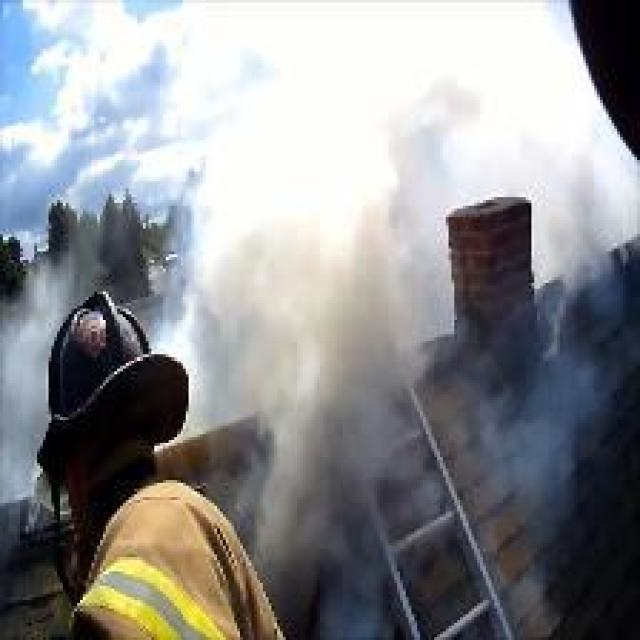other: (250, 100, 390, 247), (100, 552, 211, 634)
smoke: (186, 250, 411, 364)
